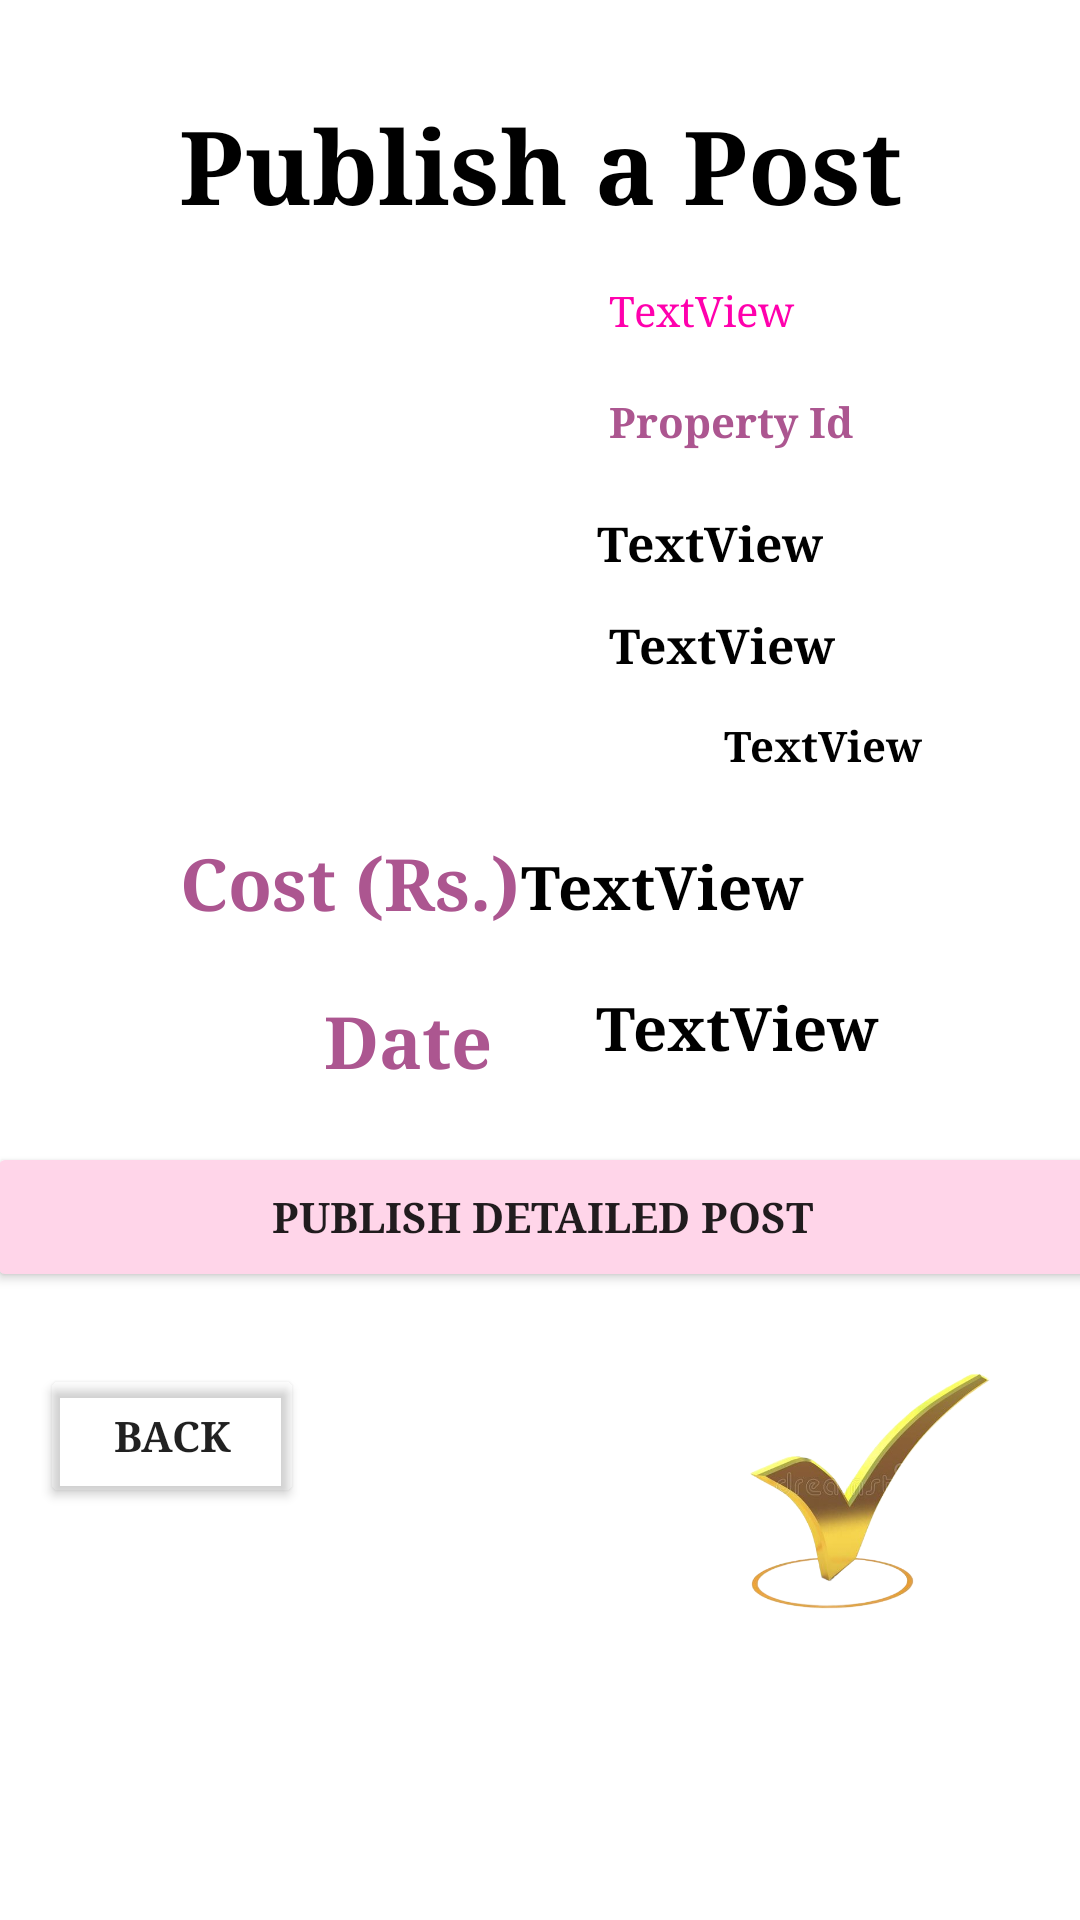

Where to tap for icons on this 1080×1920 app screen, as point (x, y):
check: point (869, 1491)
